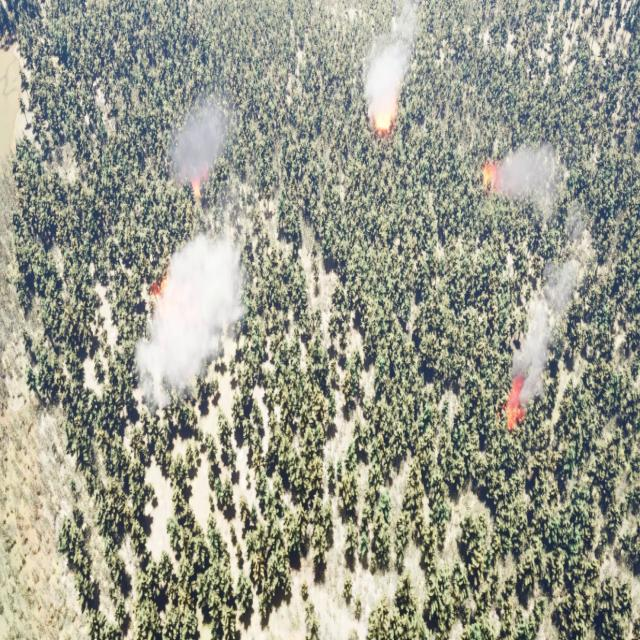fire: (504, 378, 527, 433), (376, 104, 400, 137), (189, 174, 208, 203), (481, 159, 497, 193)
smoke: (134, 225, 241, 404), (514, 264, 577, 414), (359, 0, 418, 131), (171, 94, 229, 205), (493, 145, 563, 214)
